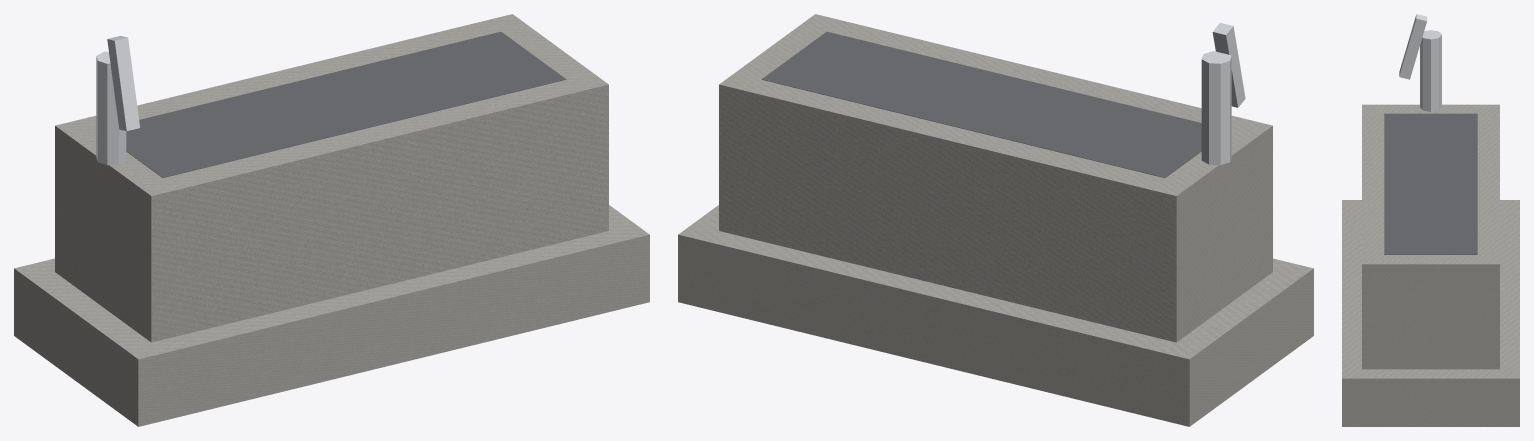
The model's file is indian-bazaar-street-and-temple-cow-trough-a344b1ea__36571.glb.
3 views of the same model, side by side, from view 1: azimuth 30°, elevation 25°; view 2: azimuth 150°, elevation 25°; view 3: azimuth 270°, elevation 25° (orthographic). The views are drawn at different scales.
Visible parts, largest first — view 1: cow-trough-stone, cow-trough-charcoal, cow-trough-steel; view 2: cow-trough-stone, cow-trough-charcoal, cow-trough-steel; view 3: cow-trough-stone, cow-trough-charcoal, cow-trough-steel.
Boxes of the visible parts, x1,y1,x2,y2 form: cow-trough-stone: (14,14,649,426); cow-trough-charcoal: (126,31,566,177); cow-trough-steel: (96,35,140,165); cow-trough-stone: (678,14,1313,426); cow-trough-charcoal: (761,31,1201,177); cow-trough-steel: (1201,22,1245,165); cow-trough-stone: (1342,104,1519,426); cow-trough-charcoal: (1384,113,1477,254); cow-trough-steel: (1399,14,1441,111).
Size of the model in its own units: 1.9 by 1.21 by 0.8.
4 materials, 1 textured.
